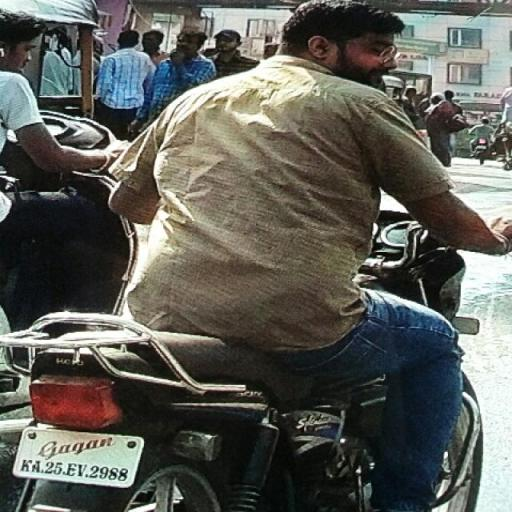bike: (4, 0, 510, 512)
numberplate: (18, 423, 144, 487)
withouthelmet: (277, 1, 401, 80)
